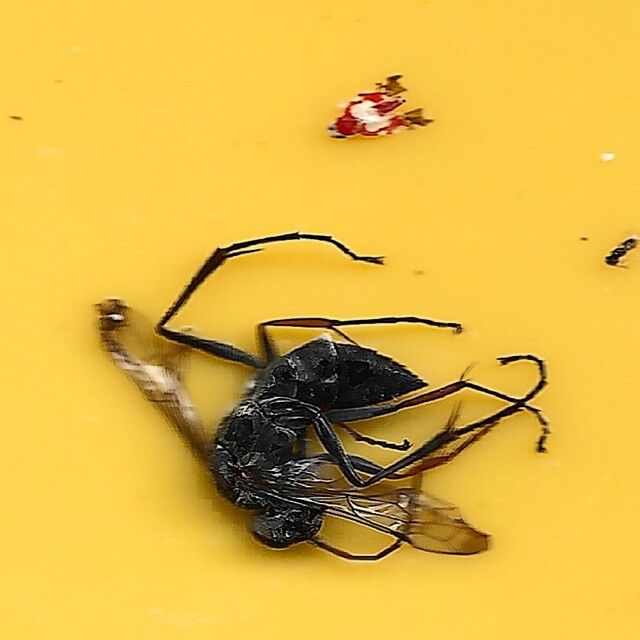Hemiptera: (324, 74, 432, 142)
Hymenoptera: (90, 232, 550, 566)
